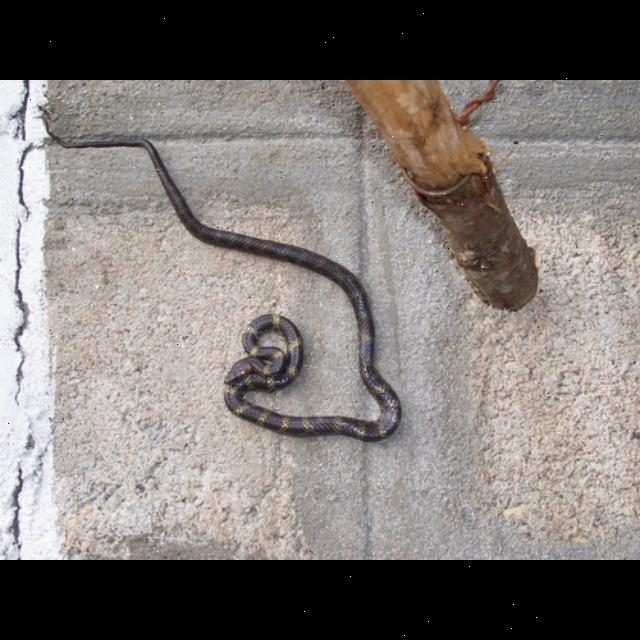snake: (49, 110, 403, 447)
